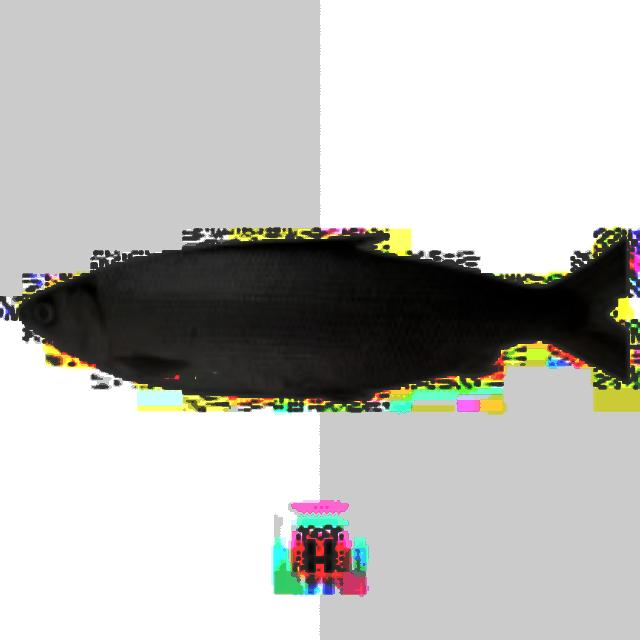Healthy Fish: (20, 237, 626, 397)
